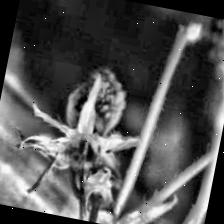Gray Mold: (6, 53, 154, 212)
